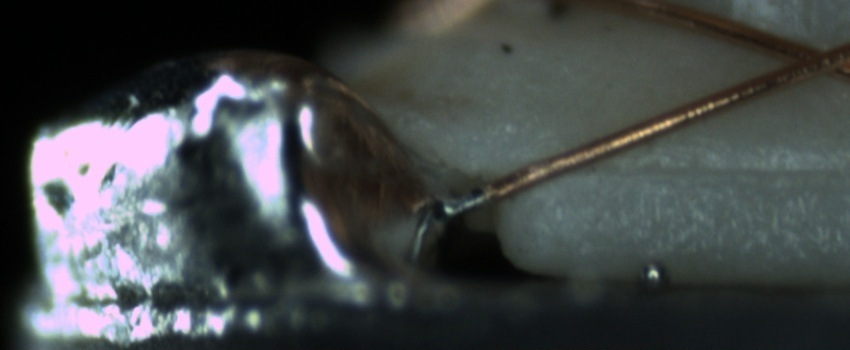CL: (767, 30, 848, 87)
DL: (560, 137, 850, 202)
TS: (437, 186, 490, 220)
